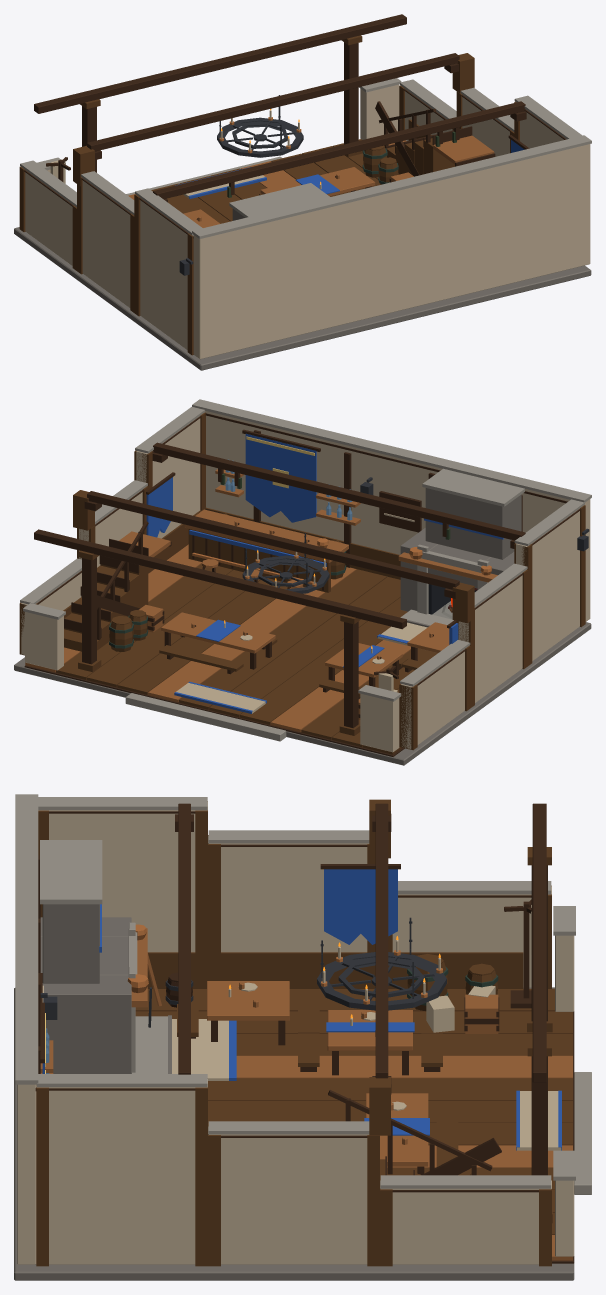
Rendered from 酒馆内部_低模.glb.
3 renders of one model, top to bottom at view 1: azimuth 30°, elevation 25°; view 2: azimuth 150°, elevation 25°; view 3: azimuth 270°, elevation 25°, orthographic. The views are drawn at different scales.
Parts seen in each view (by area): view 1: TV-plaster, TV-wood_dark, TV-stone_light, TV-wood_mid, TV-stone_mid, TV-wood_warm, TV-iron, TV-team, TV-cloth_cream; view 2: TV-wood_mid, TV-plaster, TV-wood_dark, TV-stone_light, TV-wood_warm, TV-stone_mid, TV-team, TV-iron, TV-cloth_cream, TV-copper, TV-ancient_dark; view 3: TV-plaster, TV-wood_mid, TV-stone_light, TV-stone_mid, TV-wood_dark, TV-wood_warm, TV-team, TV-cloth_cream, TV-iron, TV-copper.
Part boxes in pixels (x1=…): TV-plaster: x1=25, y1=84, x2=590, y2=359; TV-wood_dark: x1=24, y1=14, x2=566, y2=238; TV-stone_light: x1=20, y1=78, x2=591, y2=238; TV-wood_mid: x1=19, y1=35, x2=519, y2=355; TV-stone_mid: x1=14, y1=140, x2=591, y2=370; TV-wood_warm: x1=128, y1=135, x2=494, y2=227; TV-iron: x1=179, y1=95, x2=303, y2=275; TV-team: x1=175, y1=140, x2=524, y2=198; TV-cloth_cream: x1=50, y1=110, x2=321, y2=198; TV-wood_mid: x1=19, y1=412, x2=585, y2=754; TV-plaster: x1=21, y1=411, x2=590, y2=752; TV-wood_dark: x1=24, y1=413, x2=581, y2=756; TV-stone_light: x1=20, y1=399, x2=591, y2=741; TV-wood_warm: x1=25, y1=469, x2=497, y2=732; TV-stone_mid: x1=14, y1=488, x2=591, y2=765; TV-team: x1=146, y1=433, x2=503, y2=713; TV-iron: x1=242, y1=477, x2=589, y2=593; TV-cloth_cream: x1=176, y1=513, x2=427, y2=713; TV-copper: x1=192, y1=538, x2=491, y2=586; TV-ancient_dark: x1=428, y1=584, x2=477, y2=614; TV-plaster: x1=17, y1=802, x2=574, y2=1264; TV-wood_mid: x1=36, y1=799, x2=572, y2=1266; TV-stone_light: x1=15, y1=794, x2=591, y2=1194; TV-stone_mid: x1=14, y1=904, x2=574, y2=1280; TV-wood_dark: x1=35, y1=803, x2=574, y2=1263; TV-wood_warm: x1=40, y1=928, x2=572, y2=1260; TV-team: x1=42, y1=869, x2=561, y2=1150; TV-cloth_cream: x1=42, y1=905, x2=561, y2=1150; TV-iron: x1=40, y1=917, x2=446, y2=1027; TV-copper: x1=127, y1=924, x2=442, y2=1004.
Size of the model in its own units: 10.83 by 3.49 by 9.08.
